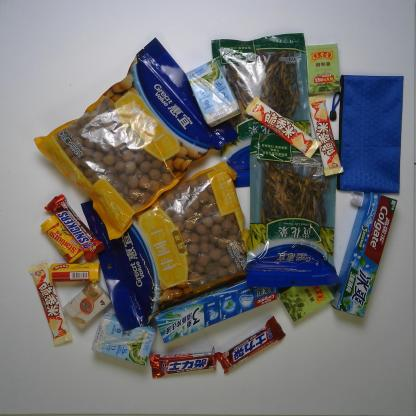Candy: (277, 266, 334, 323), (40, 214, 84, 264), (305, 44, 341, 95), (50, 262, 100, 283)
Chocolate: (245, 97, 320, 159), (215, 315, 286, 373), (44, 192, 104, 260), (29, 262, 72, 346), (305, 93, 343, 177), (148, 347, 216, 378)
Dried Food: (34, 37, 239, 240), (80, 162, 264, 331), (211, 32, 320, 191), (245, 132, 340, 291)
Milk: (186, 59, 242, 127), (92, 312, 157, 366)
Personal Hygiene: (152, 266, 279, 344), (330, 190, 398, 318)
Stationery: (336, 74, 404, 196)
Tissue: (63, 281, 112, 331)
